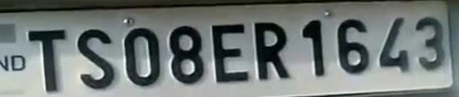0: (123, 25, 164, 90)
1: (300, 19, 333, 80)
3: (412, 14, 447, 73)
4: (376, 15, 413, 75)
6: (337, 17, 374, 75)
8: (167, 25, 210, 86)
E: (209, 22, 254, 85)
R: (250, 19, 293, 83)
S: (76, 27, 118, 91)
T: (25, 26, 74, 94)
